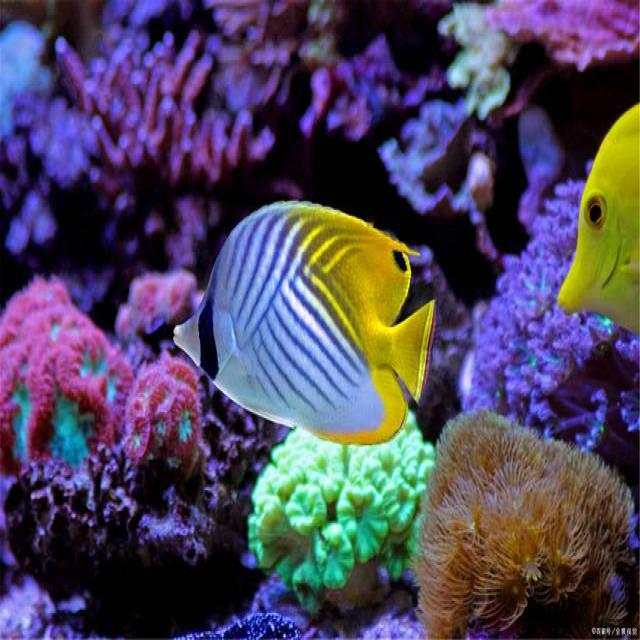ButterflyFish: (173, 199, 433, 445)
